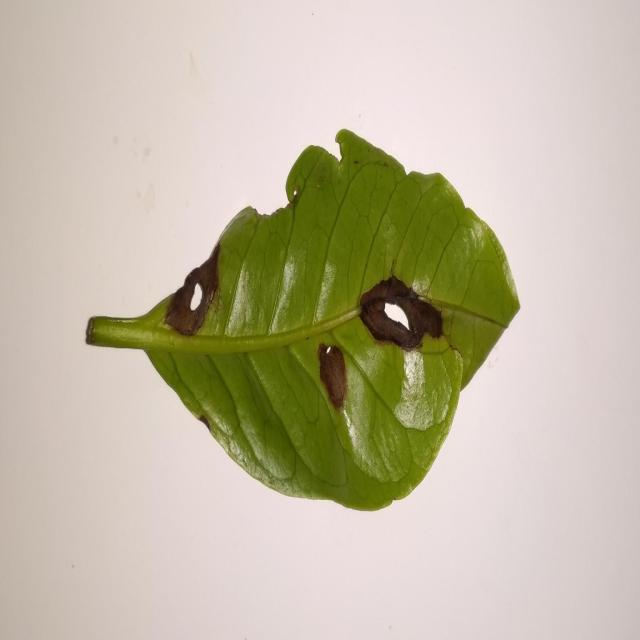Enfermedad-Antracnosis: (86, 130, 522, 514)
